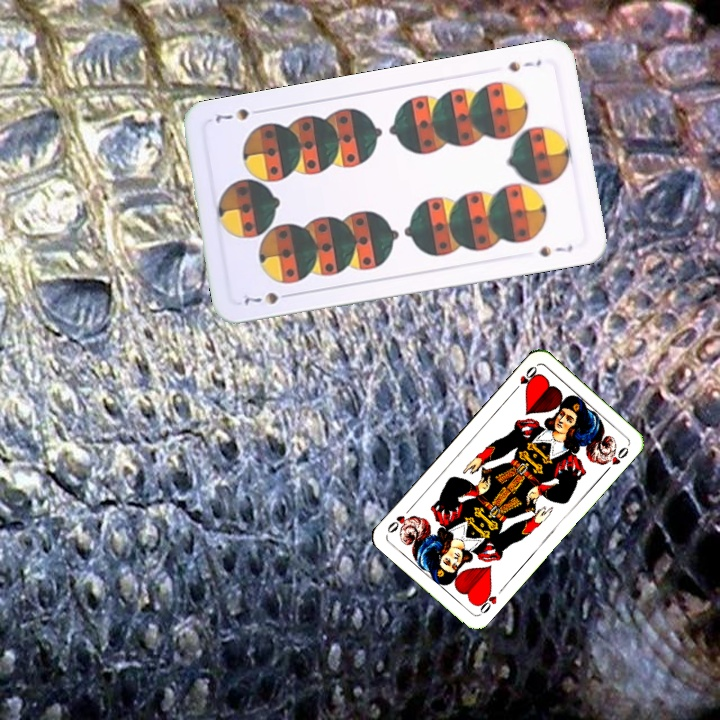HO: (509, 362, 541, 395), (473, 586, 499, 617)
S7: (240, 288, 296, 307), (504, 55, 544, 75)
